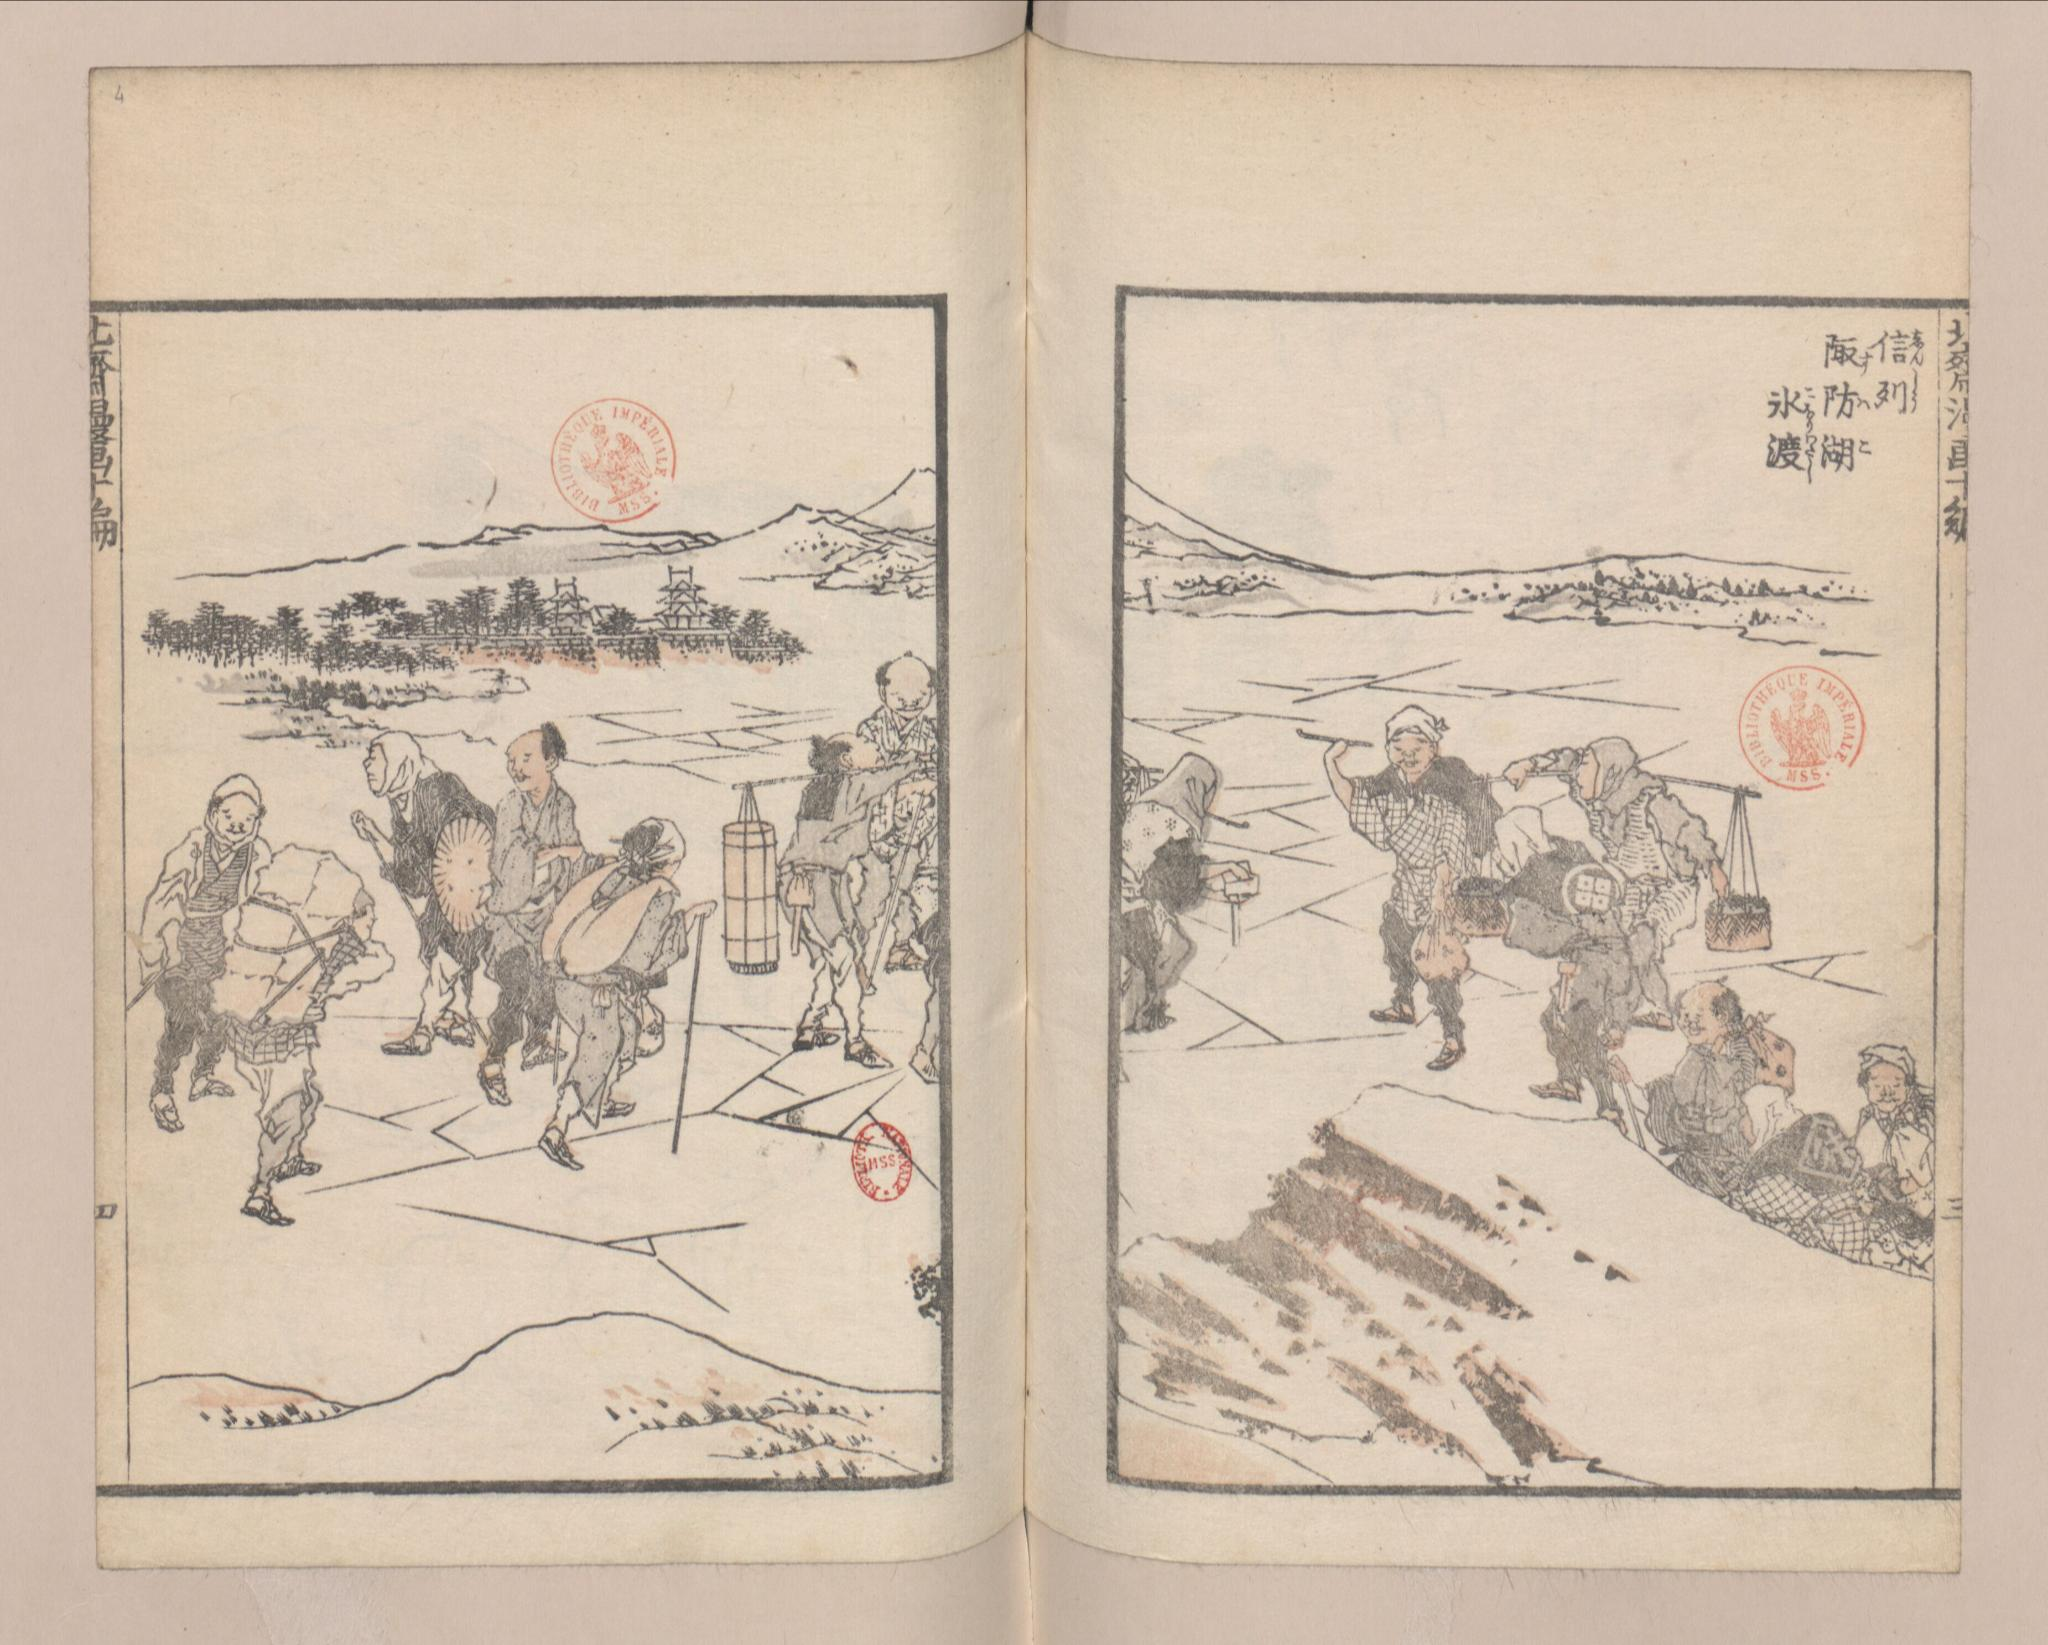MainZone-Character: (1759, 426, 1818, 477), (1820, 426, 1877, 475), (1816, 327, 1872, 374), (1872, 324, 1929, 369), (1818, 379, 1872, 426), (1766, 379, 1816, 426), (1873, 374, 1925, 418)
MainZone-Ruby: (1907, 326, 1927, 366), (1801, 428, 1818, 475), (1803, 383, 1816, 428), (1909, 374, 1922, 413), (1858, 431, 1875, 460), (1858, 342, 1872, 373), (1852, 393, 1870, 415)
